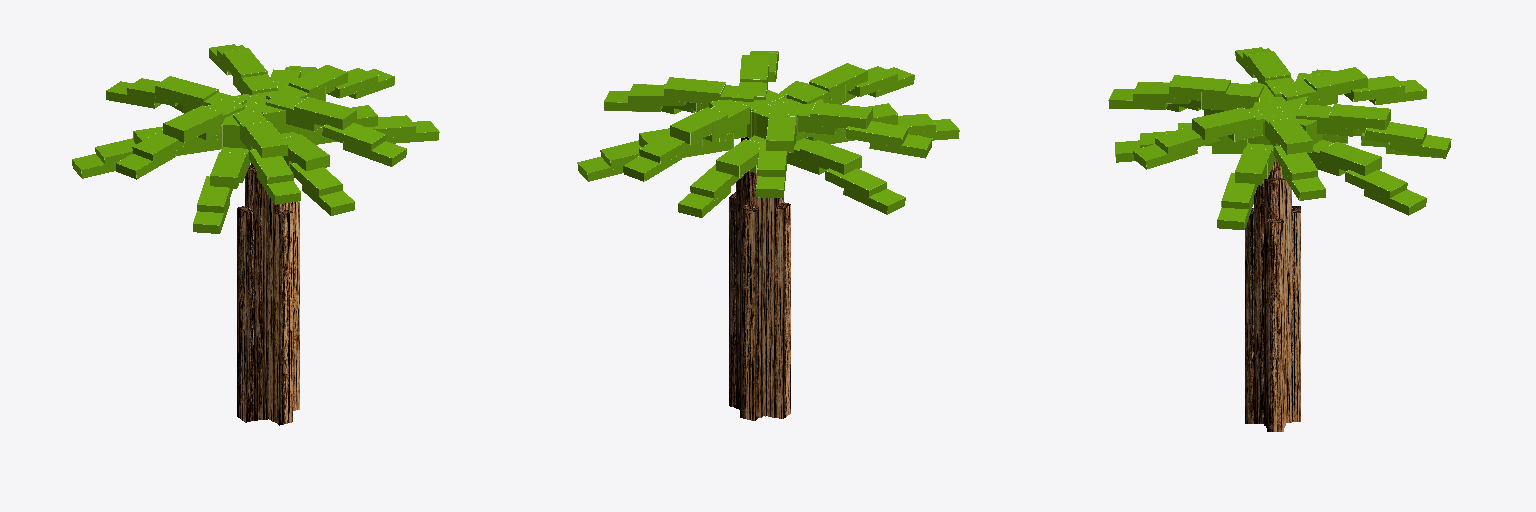
3 renders of one model, left to right at view 1: azimuth 30°, elevation 25°; view 2: azimuth 150°, elevation 25°; view 3: azimuth 270°, elevation 25°, orthographic.
Visible parts, largest first — view 1: Box032, Box031, Box030, Box034, Box033, Box080, Box044, Box071, Box089, Box083, Box045, Box039 (+25 smaller); view 2: Box036, Box031, Box030, Box034, Box037, Box053, Box080, Box062, Box074, Box089, Box067, Box076 (+24 smaller); view 3: Box034, Box033, Box036, Box032, Box037, Box044, Box057, Box062, Box089, Box035, Box071, Box091 (+21 smaller).
Boxes of the visible parts, x1,y1,x2,y2 form: Box032: [275, 209, 292, 425]; Box031: [237, 206, 253, 422]; Box030: [245, 165, 261, 420]; Box034: [292, 201, 299, 410]; Box033: [269, 197, 289, 421]; Box080: [163, 105, 222, 142]; Box044: [294, 97, 356, 129]; Box071: [155, 76, 218, 105]; Box089: [244, 121, 287, 157]; Box083: [210, 152, 246, 188]; Box045: [322, 123, 385, 152]; Box039: [284, 134, 329, 170]; Box036: [740, 205, 758, 420]; Box031: [775, 202, 790, 418]; Box030: [767, 198, 783, 417]; Box034: [729, 192, 735, 407]; Box037: [744, 171, 762, 417]; Box053: [664, 77, 725, 103]; Box080: [810, 102, 872, 128]; Box062: [670, 107, 727, 144]; Box074: [800, 140, 861, 174]; Box089: [809, 63, 867, 99]; Box067: [716, 139, 759, 177]; Box076: [825, 168, 886, 198]; Box034: [1267, 219, 1283, 431]; Box033: [1254, 182, 1263, 423]; Box036: [1292, 206, 1300, 421]; Box032: [1245, 208, 1253, 423]; Box037: [1286, 181, 1291, 422]; Box044: [1192, 107, 1255, 139]; Box057: [1320, 142, 1381, 175]; Box062: [1329, 104, 1390, 129]; Box089: [1169, 75, 1230, 102]; Box035: [1266, 178, 1284, 427]; Box071: [1304, 67, 1367, 99]; Box091: [1201, 83, 1263, 110].
Bounding box in the file's own units: 71.96 × 69.55 × 68.41.
2 materials, 2 textured.